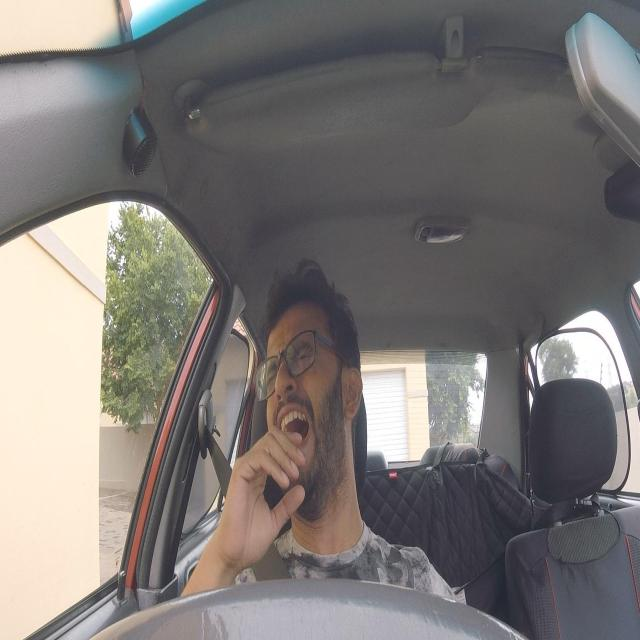close: (286, 329, 316, 372), (259, 356, 280, 392)
